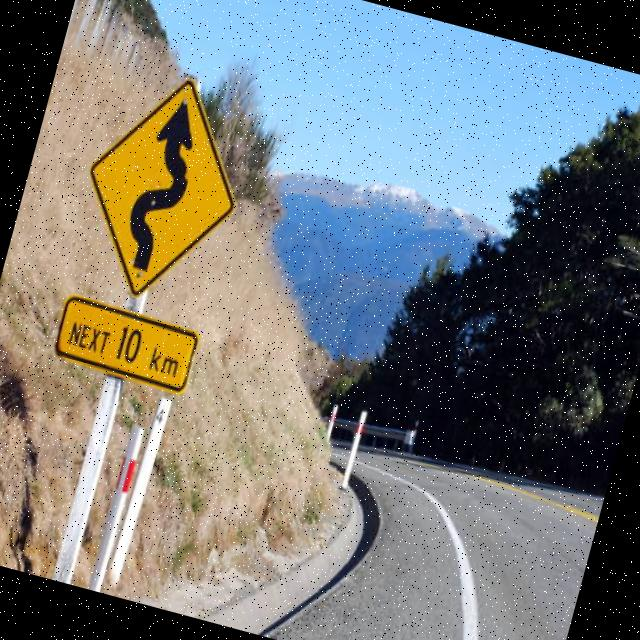left_sharp_curve: (56, 56, 264, 315)
